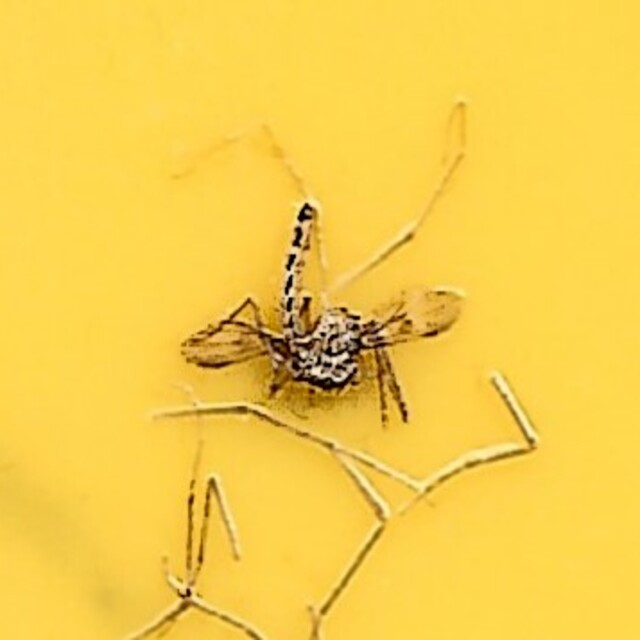Nematocera: (179, 205, 461, 435)
